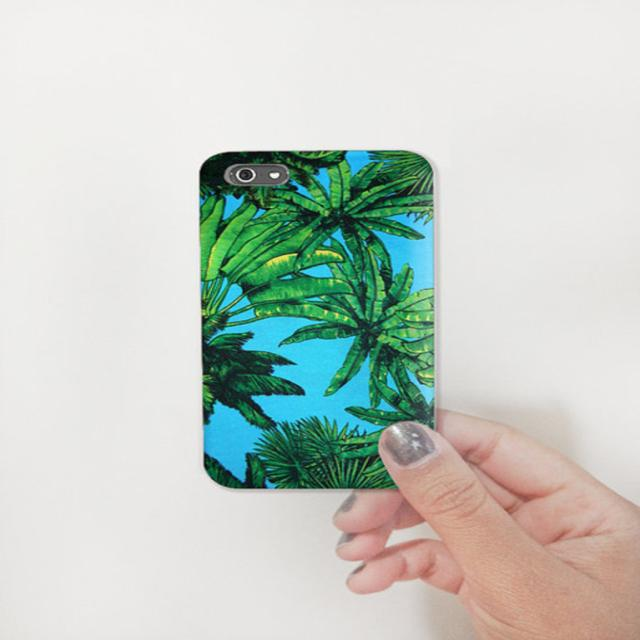Mobile-phone: (189, 126, 458, 506)
